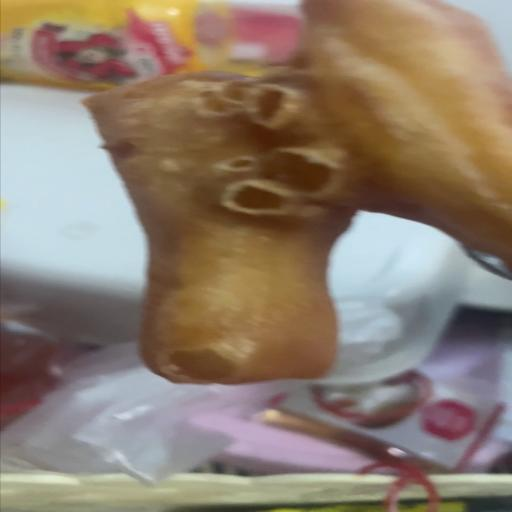street_burnt_defect: (84, 0, 512, 384)
